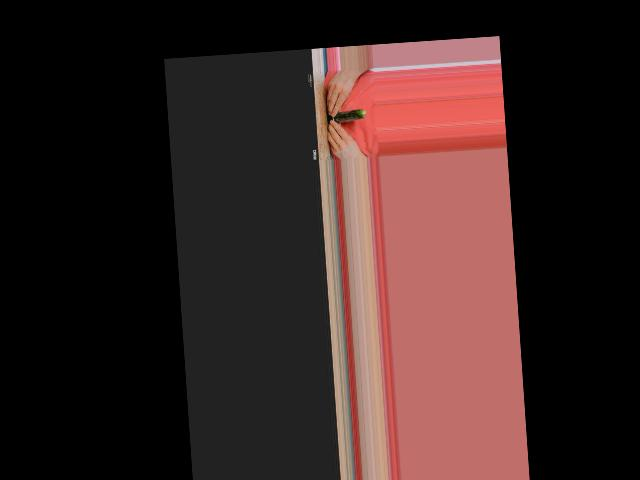cucumber: (326, 108, 366, 123)
